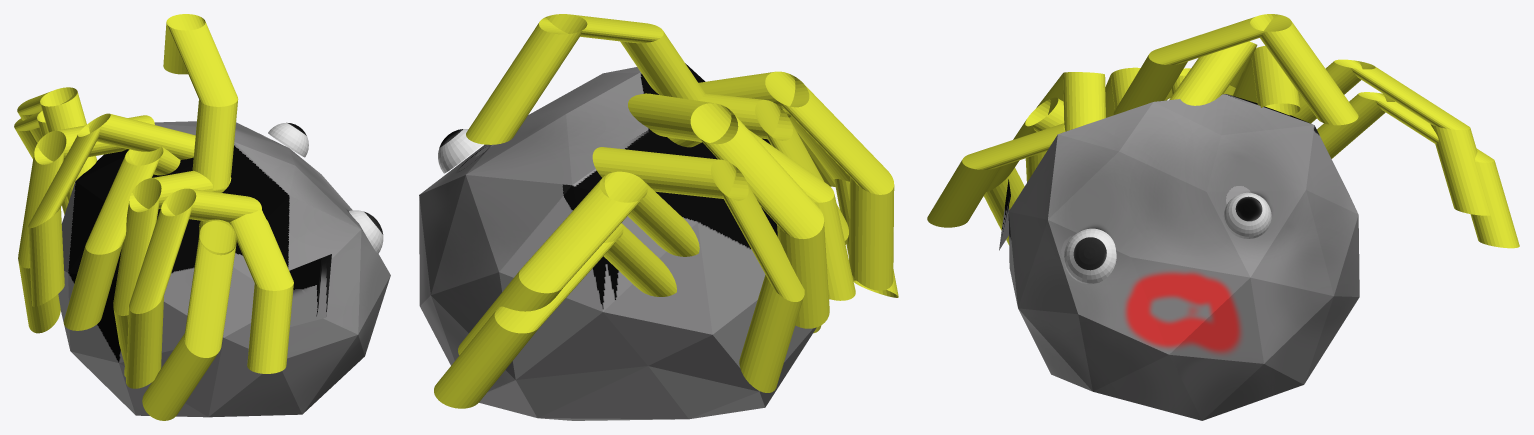
Rendered from piedra.fbx.
The picture shows the model from 3 angles, left to right: view 1: azimuth 30°, elevation 25°; view 2: azimuth 150°, elevation 25°; view 3: azimuth 270°, elevation 25°; orthographic projection. The views are drawn at different scales.
Parts seen in each view (by area): view 1: Icosphere; view 2: Icosphere; view 3: Icosphere.
Part boxes in pixels (box(x1,y1,x2,y2)): Icosphere: box(14, 14, 390, 420); Icosphere: box(419, 14, 898, 420); Icosphere: box(927, 14, 1519, 420).
Size of the model in its own units: 115 by 115 by 172.
